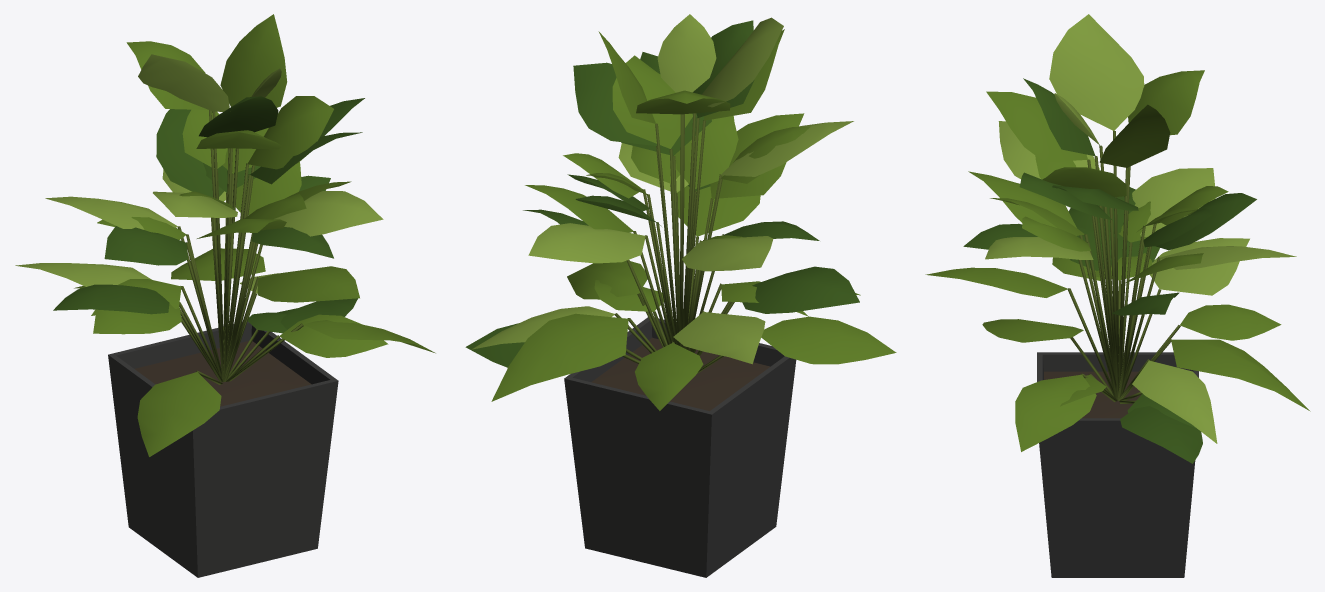
File: greenery.plant-medium.glb
3 renders of one model, left to right at view 1: azimuth 30°, elevation 25°; view 2: azimuth 150°, elevation 25°; view 3: azimuth 270°, elevation 25°, orthographic. The views are drawn at different scales.
Parts seen in each view (by area): view 1: greenery.plant-medium.001; view 2: greenery.plant-medium.001; view 3: greenery.plant-medium.001.
Part boxes in pixels (x1,y1,x2,y2): greenery.plant-medium.001: (15, 14, 435, 577); greenery.plant-medium.001: (465, 14, 896, 577); greenery.plant-medium.001: (925, 14, 1310, 577).
Size of the model in its own units: 0.6 by 0.85 by 0.6.
